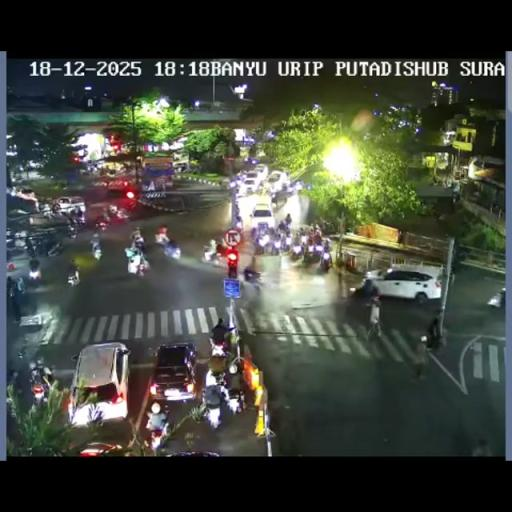Car: (68, 342, 130, 426), (148, 342, 198, 402), (364, 266, 442, 302), (249, 202, 275, 233), (74, 441, 124, 455), (52, 196, 86, 214), (240, 170, 266, 192), (10, 186, 38, 204), (266, 170, 288, 192), (106, 178, 136, 194), (486, 287, 505, 308)
Motorcycle: (7, 228, 86, 294), (208, 318, 236, 377), (345, 282, 375, 336), (7, 276, 26, 318), (146, 418, 168, 451), (222, 386, 245, 416), (29, 372, 48, 407), (202, 242, 226, 268), (424, 328, 446, 354), (6, 370, 21, 408), (242, 271, 266, 294), (203, 402, 222, 430), (126, 251, 147, 276), (300, 250, 322, 273), (160, 238, 182, 260), (46, 239, 65, 257), (255, 231, 270, 253), (27, 264, 42, 285), (290, 241, 304, 261), (319, 250, 331, 272), (66, 268, 80, 286), (25, 237, 37, 257), (64, 222, 78, 239), (319, 220, 336, 234), (133, 236, 146, 254), (39, 202, 53, 218), (114, 206, 130, 219), (278, 218, 291, 234), (282, 231, 293, 249), (227, 260, 238, 278), (94, 216, 108, 230), (154, 232, 169, 245), (90, 241, 101, 258), (272, 236, 282, 254), (321, 236, 332, 250), (312, 230, 322, 244), (299, 231, 308, 246), (293, 180, 304, 192), (235, 218, 243, 232), (228, 179, 238, 190), (271, 193, 278, 208), (18, 346, 26, 358), (314, 244, 323, 254), (34, 198, 39, 212)
